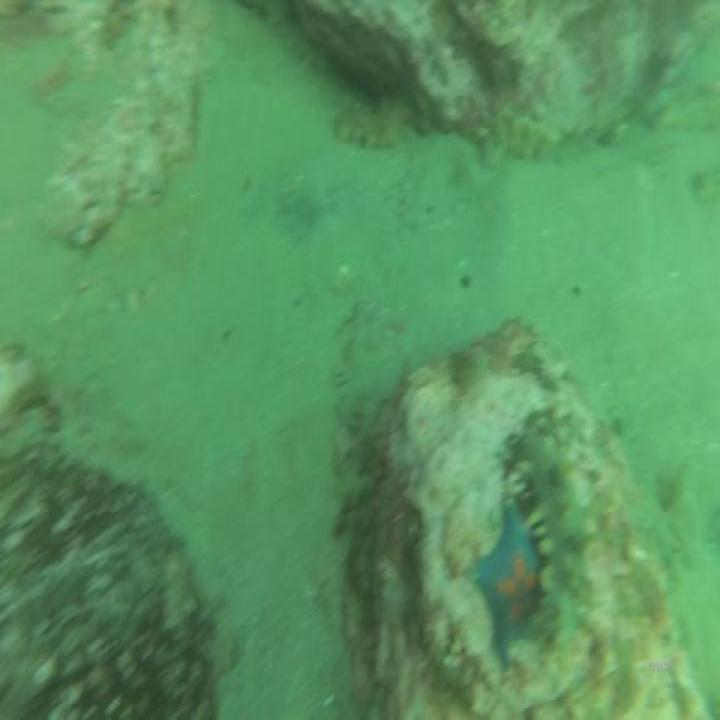holothurian: (510, 423, 600, 651), (483, 94, 566, 176), (331, 87, 415, 153)
starfish: (467, 494, 547, 674)
